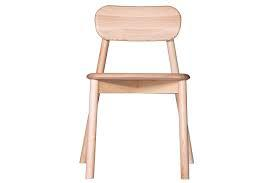chair: (75, 7, 207, 175)
